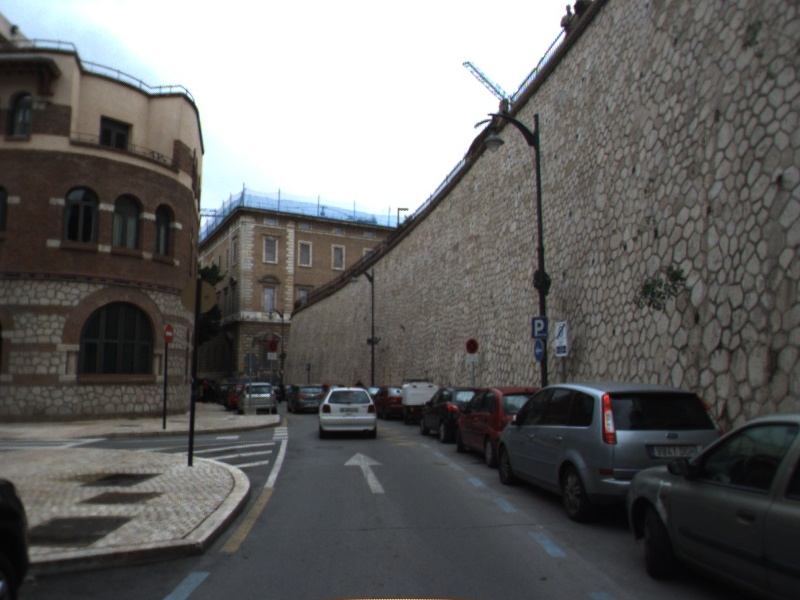STRAIGHT: (343, 450, 387, 495)
